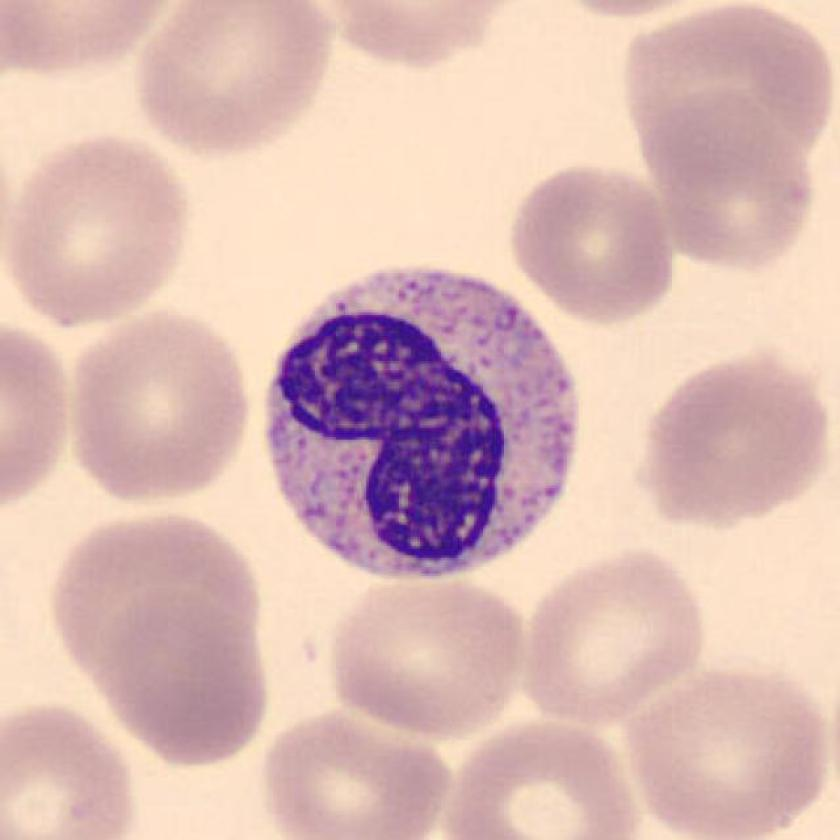neutrophil: (266, 273, 583, 580)
